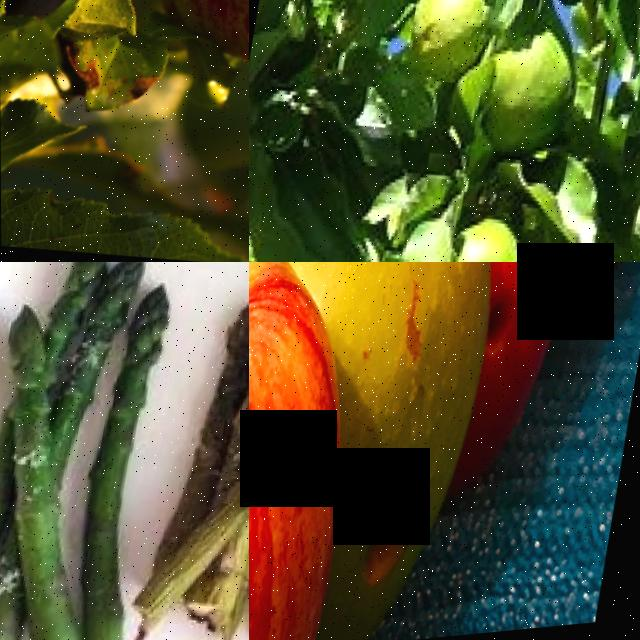apple: (307, 262, 528, 640), (249, 262, 399, 640), (462, 262, 596, 497), (124, 0, 249, 127), (549, 262, 640, 350)
asparagus: (0, 262, 191, 640)
avocado: (471, 17, 591, 170), (391, 0, 512, 97), (423, 215, 539, 262)
